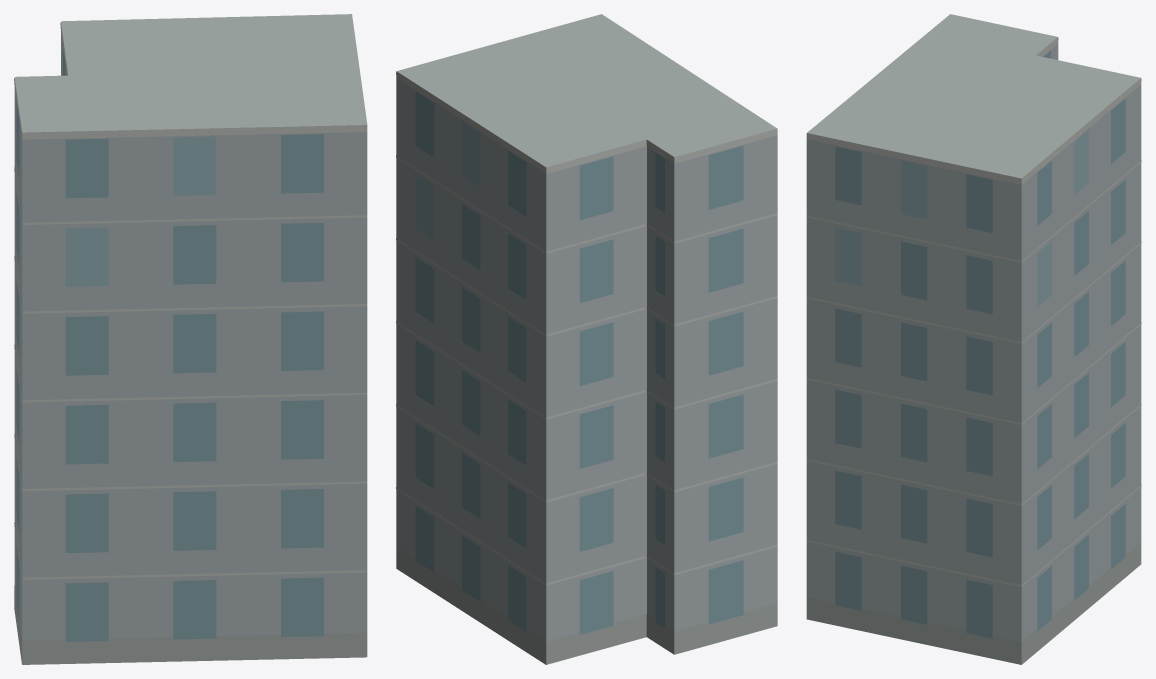
File: survey-upis-32799473.glb
The picture shows the model from 3 angles, left to right: view 1: azimuth 30°, elevation 25°; view 2: azimuth 150°, elevation 25°; view 3: azimuth 270°, elevation 25°; orthographic projection. The views are drawn at different scales.
Parts seen in each view (by area): view 1: survey-upis-32799473.tmp; view 2: survey-upis-32799473.tmp; view 3: survey-upis-32799473.tmp.
Part boxes in pixels (bbox=[...]): survey-upis-32799473.tmp: bbox=[14, 14, 367, 664]; survey-upis-32799473.tmp: bbox=[396, 14, 777, 664]; survey-upis-32799473.tmp: bbox=[806, 14, 1141, 664].
Size of the model in its own units: 13.39 by 18.43 by 11.51.
